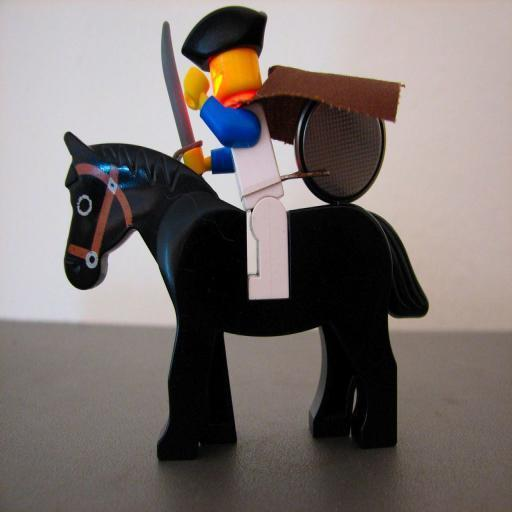horse: (63, 128, 428, 458)
